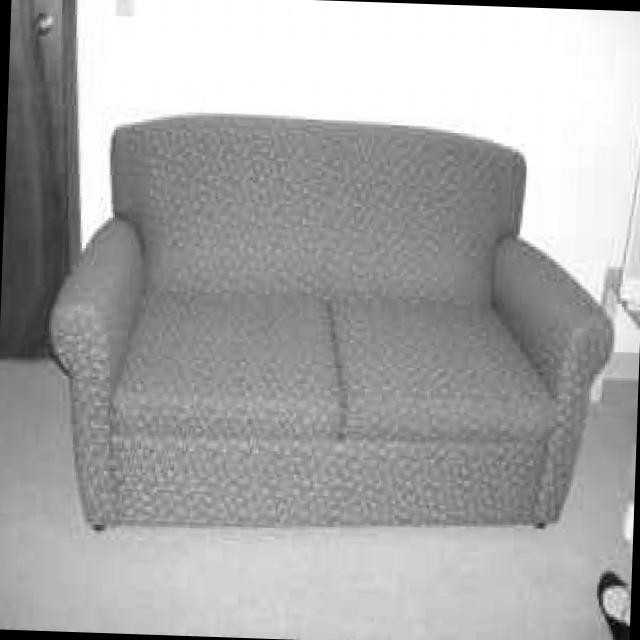door entrance: (1, 0, 86, 353)
floor -X: (0, 352, 638, 640)
sofa bed: (51, 112, 614, 530)
wall clock: (80, 0, 640, 378)
